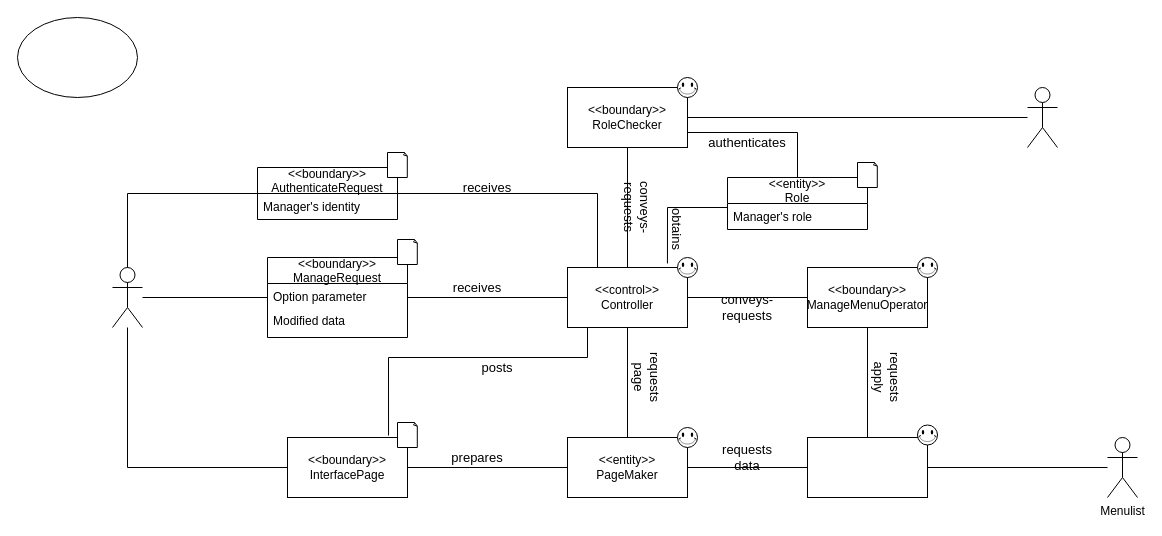
Image size: 1162x536. Some labels were removed from this diagram. The shapes that lost their labels are listed below. From the top down, each one's centre as x and y in pixels, then its label:
the point at 77,57: BUC-1 ManageMenus
the point at 1042,117: Authenticator
the point at 127,297: Manager
the point at 867,467: <<boundary>> MenuConnection
